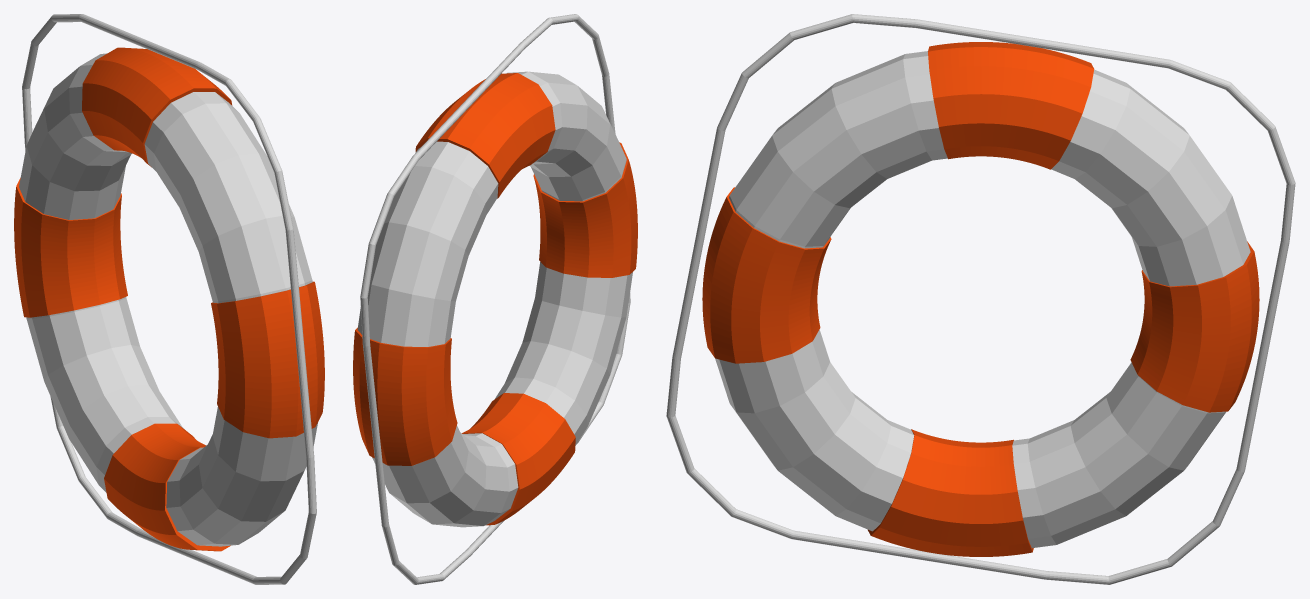
File: bouee.obj
3 renders of one model, left to right at view 1: azimuth 30°, elevation 25°; view 2: azimuth 150°, elevation 25°; view 3: azimuth 270°, elevation 25°, orthographic. The views are drawn at different scales.
Parts seen in each view (by area): view 1: LIfe_Preserver:Mesh; view 2: LIfe_Preserver:Mesh; view 3: LIfe_Preserver:Mesh.
Boxes of the visible parts, x1=… form: LIfe_Preserver:Mesh: x1=14, y1=14, x2=324, y2=584; LIfe_Preserver:Mesh: x1=353, y1=14, x2=637, y2=584; LIfe_Preserver:Mesh: x1=666, y1=14, x2=1295, y2=584.
Bounding box in the file's own units: 0.1606 × 0.8791 × 0.8791.
